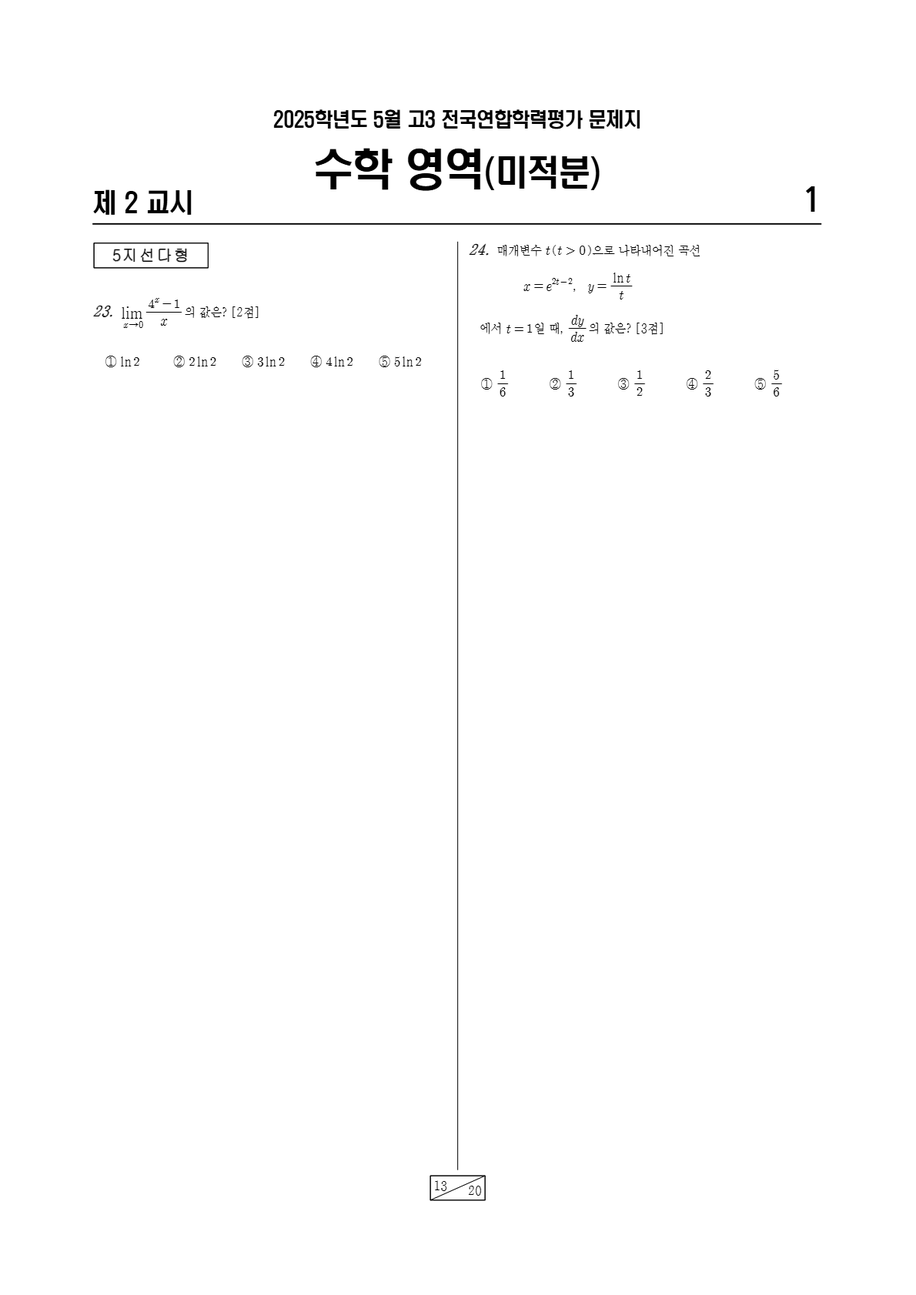opt_1: (102, 353, 118, 369), (480, 376, 492, 390)
opt_2: (172, 353, 185, 367), (549, 376, 561, 390)
opt_3: (241, 353, 253, 368), (617, 376, 629, 390)
opt_4: (309, 353, 323, 368), (686, 376, 699, 391)
opt_5: (378, 354, 390, 368), (754, 376, 766, 390)
